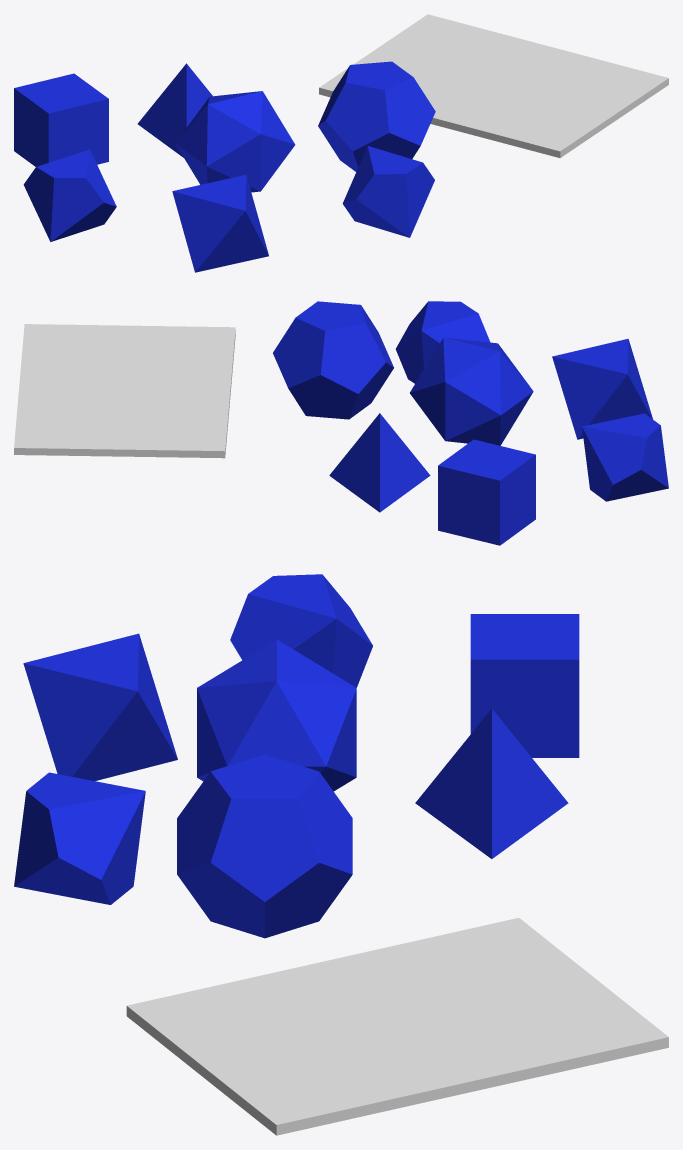
The model's file is dice_blue.glb.
3 views of the same model, one above another, from view 1: azimuth 30°, elevation 25°; view 2: azimuth 150°, elevation 25°; view 3: azimuth 270°, elevation 25° (orthographic). The views are drawn at different scales.
Visible parts, largest first — view 1: Cube; view 2: Cube; view 3: Cube.
Boxes of the visible parts, x1,y1,x2,y2 form: Cube: [14, 14, 668, 272]; Cube: [14, 301, 668, 545]; Cube: [14, 574, 668, 1135].
Bounding box in the file's own units: 11.92 × 1.85 × 6.97.
